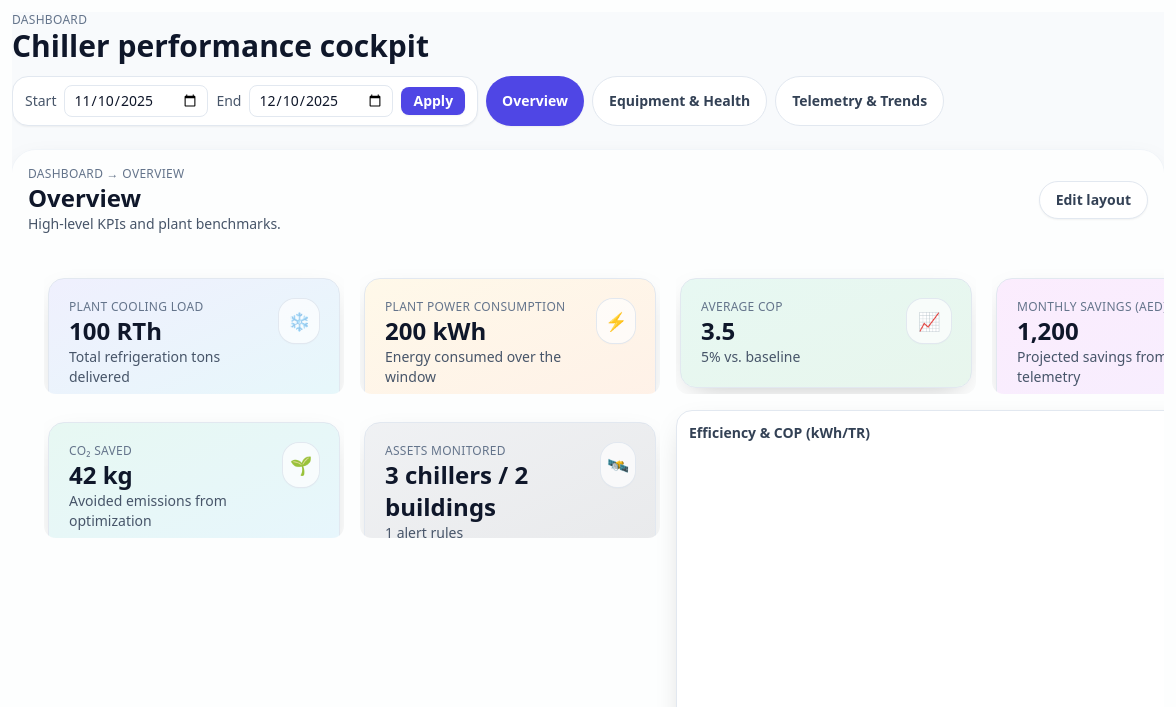
it: DashboardPage › renders overview widgets and allows switching sections
This screenshot has width=1176, height=707.
Expected: the text "Plant cooling load" is shown, [69,298,204,315]
Click the button "Equipment & Health" at (680, 101), box [592,76,767,126]
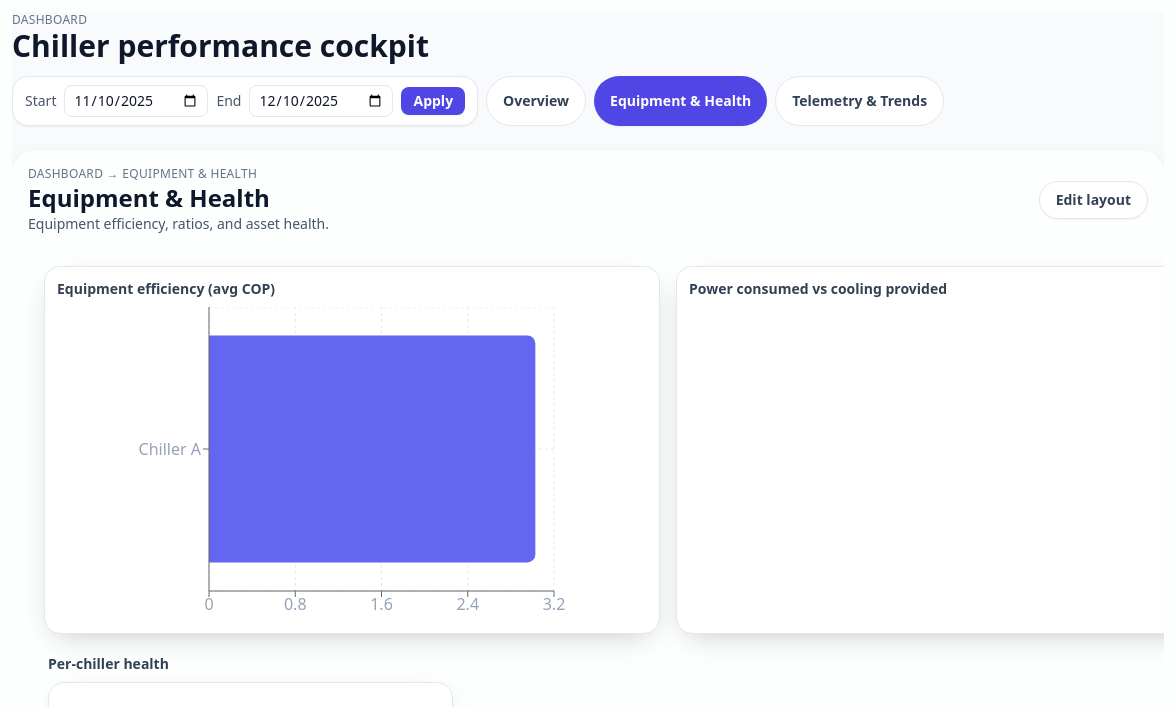
Expected: the text "Equipment efficiency (avg COP)" is shown, [57,279,275,299]
